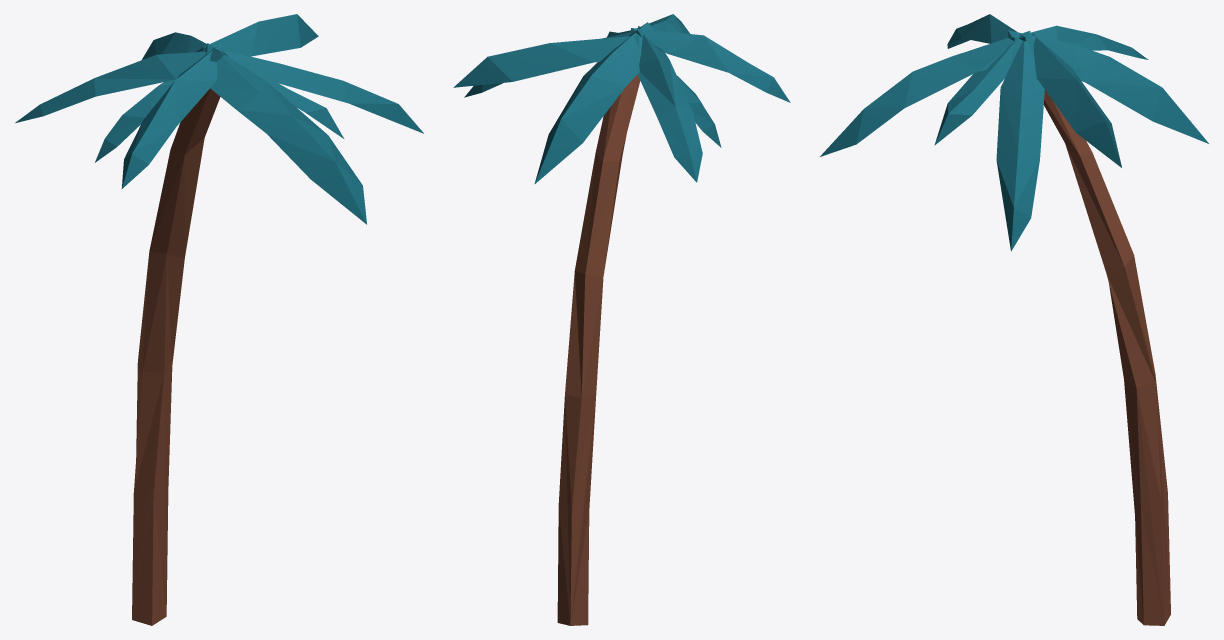
The model's file is Tree_09_gradient_blue_vc.fbx.
The picture shows the model from 3 angles, left to right: view 1: azimuth 30°, elevation 25°; view 2: azimuth 150°, elevation 25°; view 3: azimuth 270°, elevation 25°; orthographic projection. The views are drawn at different scales.
Parts seen in each view (by area): view 1: Tree_09_gradient_blue_vc; view 2: Tree_09_gradient_blue_vc; view 3: Tree_09_gradient_blue_vc.
Part boxes in pixels (box(x1,y1,x2,y2)): Tree_09_gradient_blue_vc: box(15, 14, 423, 625); Tree_09_gradient_blue_vc: box(453, 14, 790, 625); Tree_09_gradient_blue_vc: box(820, 14, 1208, 625).
Bounding box in the file's own units: 128 × 228 × 137.
